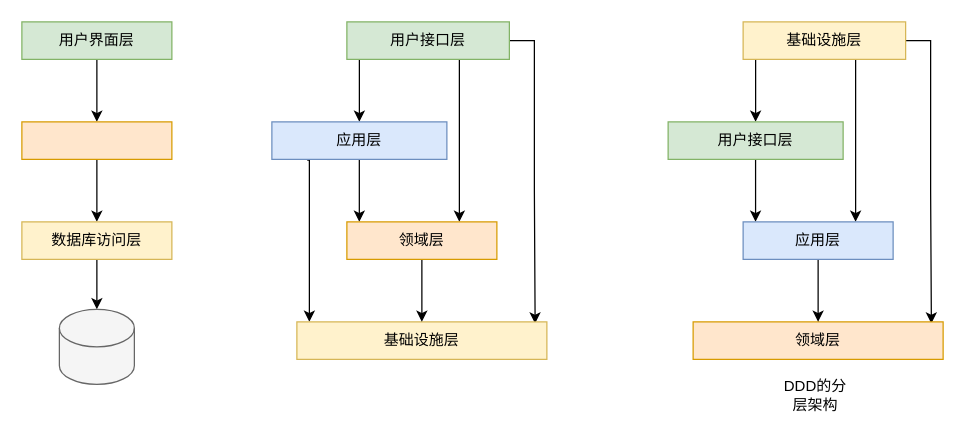
The diagram is 965 pixels wide and 436 high, and some of its shapes have lost their labels. The shapes that lost their labels are listed below. From the top down, each one's centre as x and y in pixels, then its label:
At [96,140]: "业务逻辑层".
At [96,346]: "数据库".
